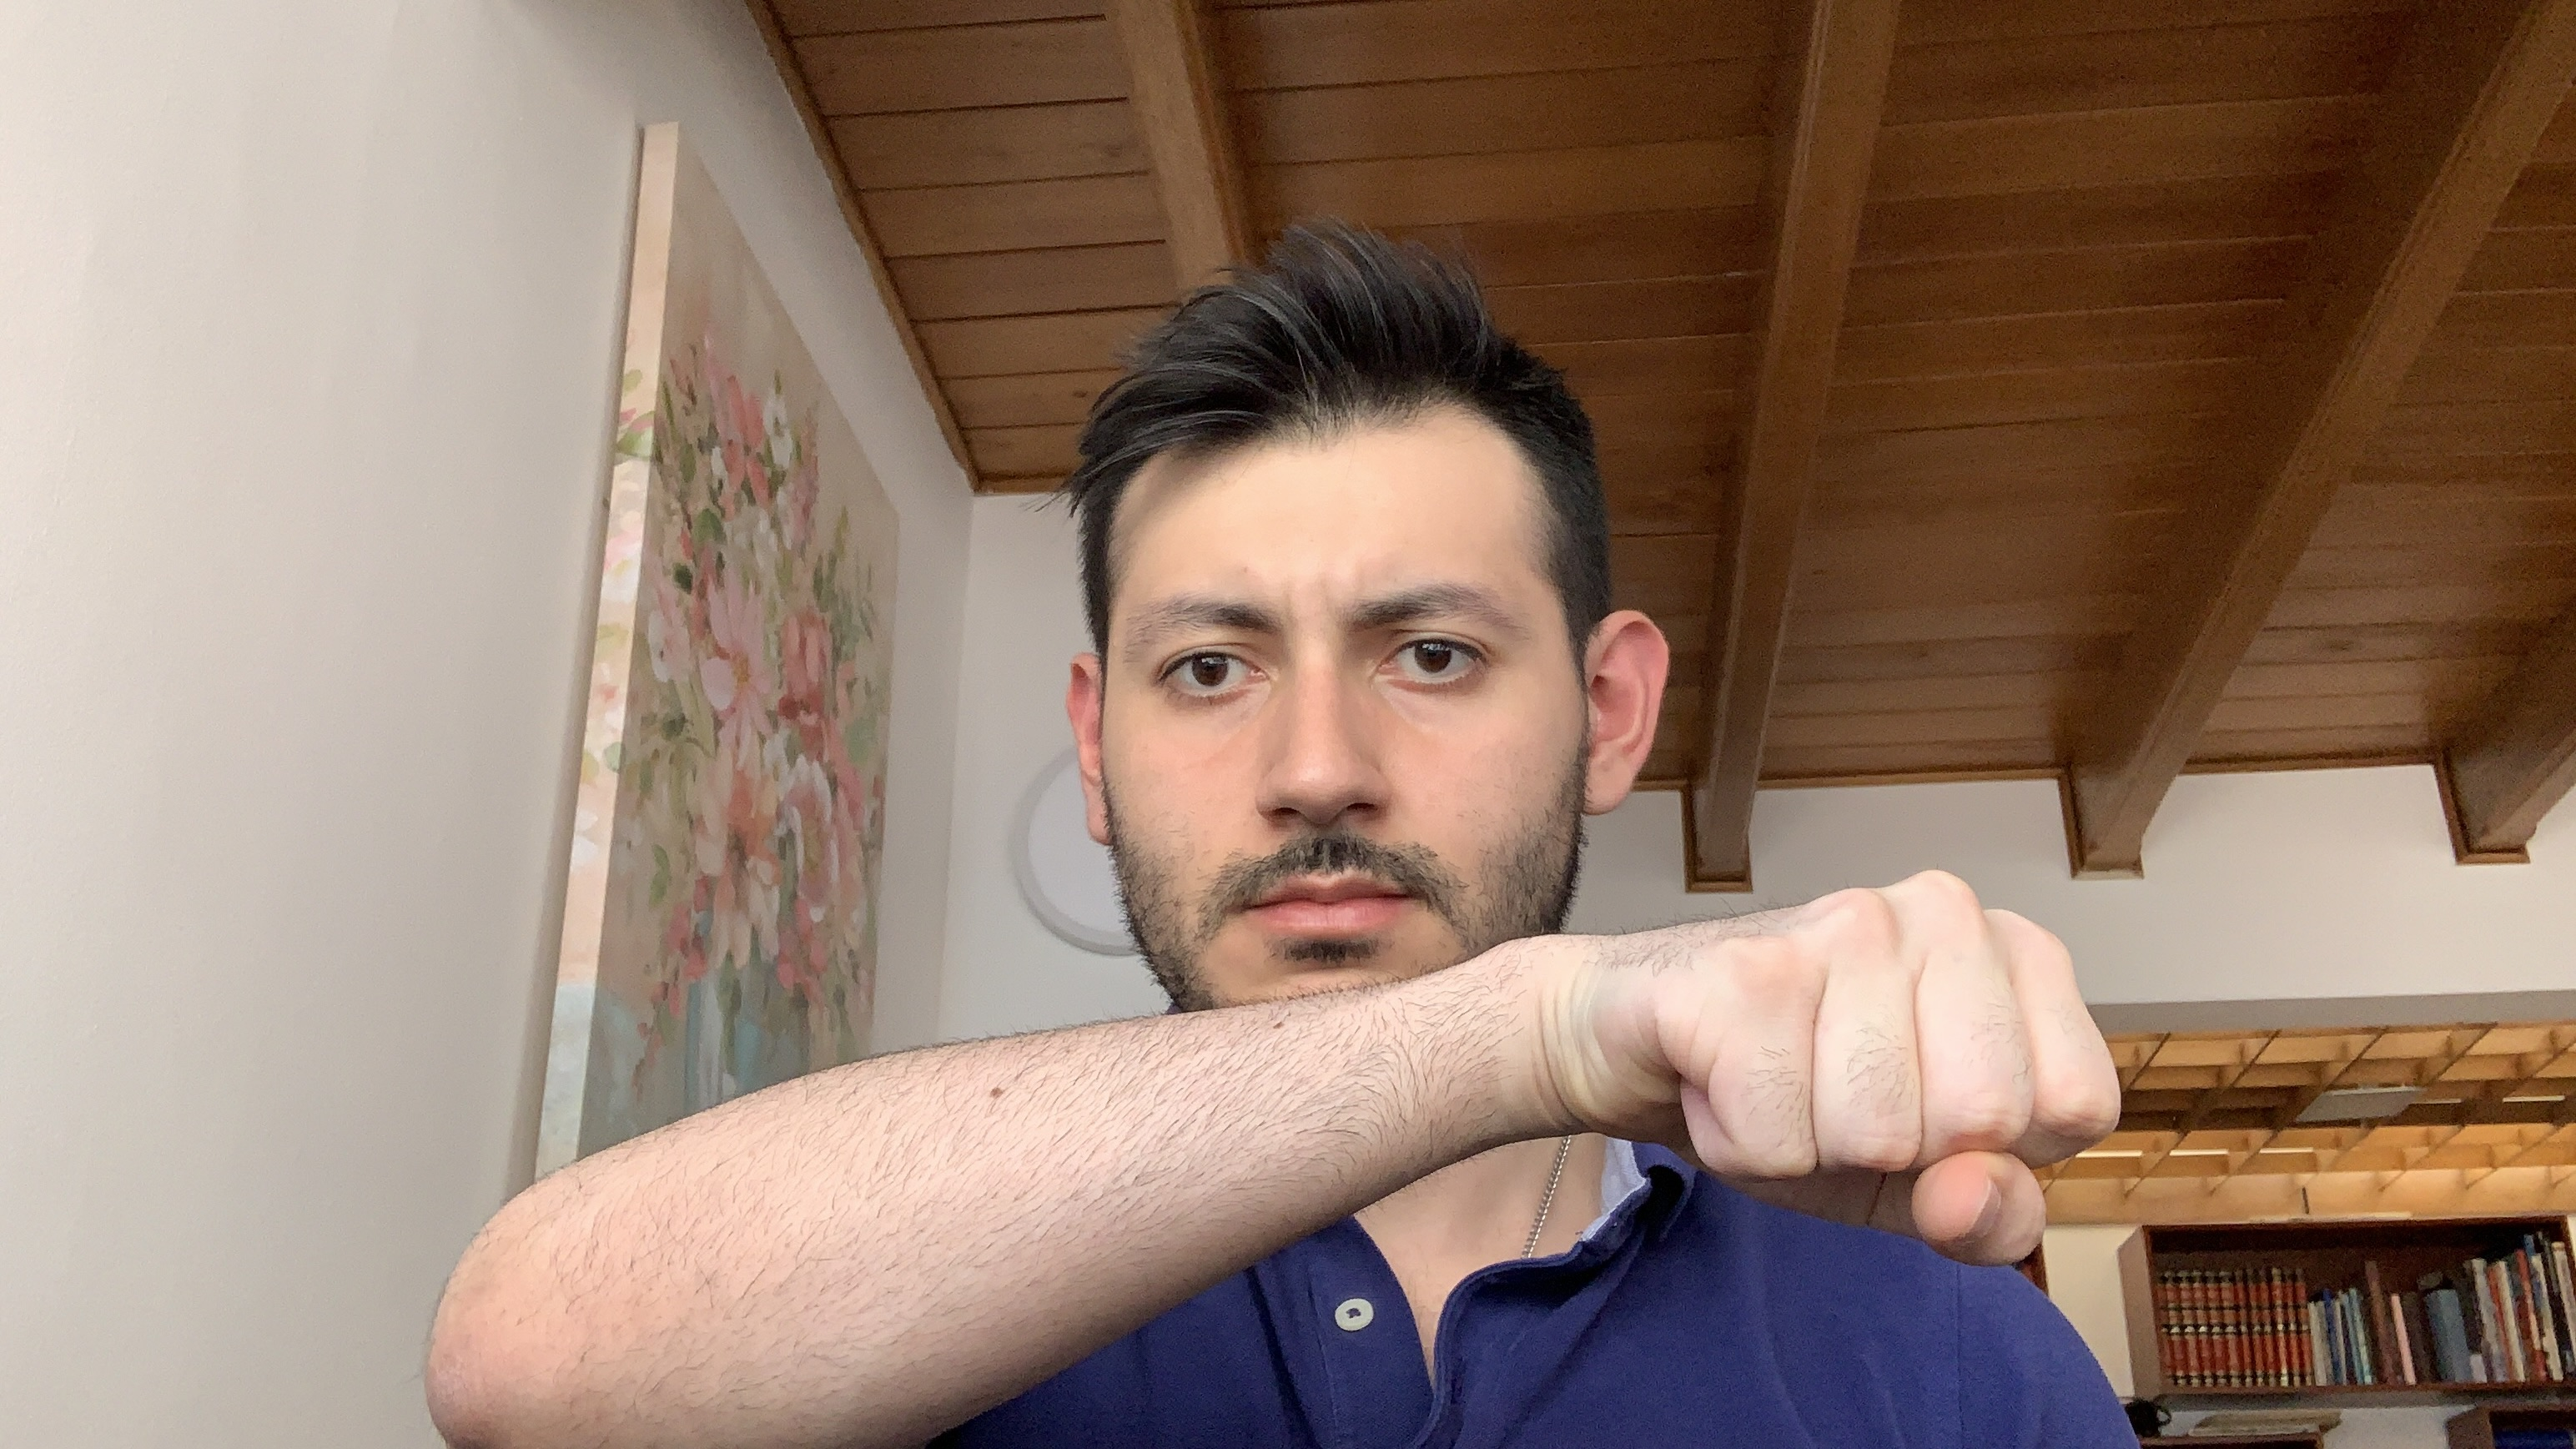Yes: (1527, 862, 2137, 1295)
